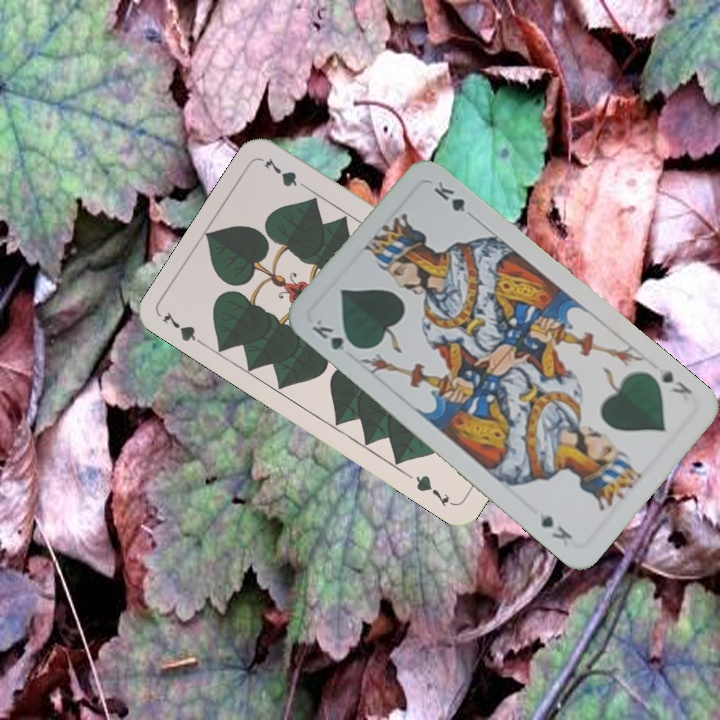G7: (158, 307, 211, 351)
GK: (307, 314, 361, 357), (653, 364, 696, 397)
